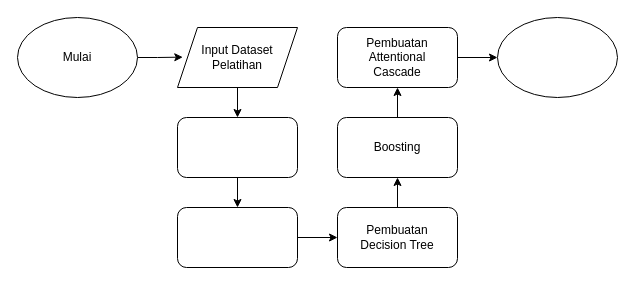
Some shapes in this 635 by 285 pixel diagram are drawn without their labels. Each missing label, with the centre of its shape:
"Pembuatan Features" belongs at pixel 237 237.
"Pembuatan Integral Image" belongs at pixel 237 147.
"Selesai" belongs at pixel 557 57.
